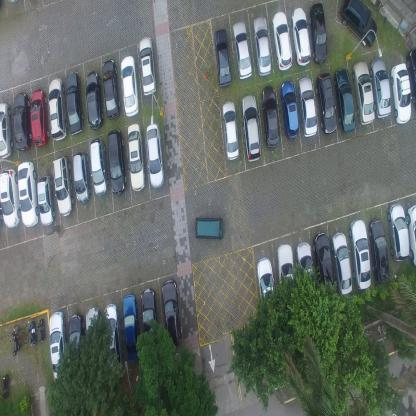car: (339, 0, 377, 46), (14, 162, 37, 230), (159, 279, 182, 346), (50, 157, 74, 219), (350, 218, 370, 290), (352, 59, 374, 124), (335, 66, 356, 134), (331, 231, 353, 295), (100, 302, 121, 368), (388, 199, 410, 262), (120, 293, 140, 362), (271, 10, 293, 72), (119, 54, 140, 118), (312, 232, 334, 293), (241, 95, 261, 162), (290, 6, 312, 66), (315, 73, 336, 135), (368, 218, 388, 282), (48, 77, 68, 141), (391, 61, 411, 124), (0, 168, 21, 228), (144, 122, 163, 188), (106, 128, 125, 194), (232, 18, 252, 80), (254, 254, 276, 310), (126, 123, 144, 191), (370, 58, 390, 119), (252, 15, 272, 76), (261, 83, 280, 147), (30, 88, 50, 148), (298, 75, 317, 138), (138, 36, 157, 97), (13, 91, 32, 152), (88, 139, 108, 196), (221, 100, 240, 160), (102, 58, 120, 121), (138, 288, 155, 354), (274, 241, 294, 297), (309, 2, 327, 63), (214, 26, 232, 87), (48, 312, 64, 380), (66, 71, 83, 135), (281, 79, 299, 139), (85, 70, 103, 129), (296, 239, 314, 296), (72, 151, 90, 206), (66, 314, 84, 369), (35, 177, 53, 229), (194, 215, 225, 241), (0, 100, 13, 161), (406, 44, 416, 107), (406, 201, 415, 268)
